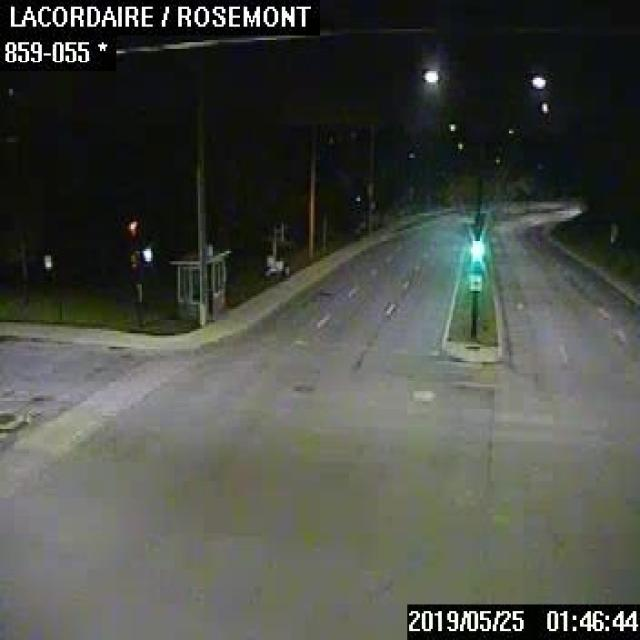construction: (258, 212, 290, 276)
